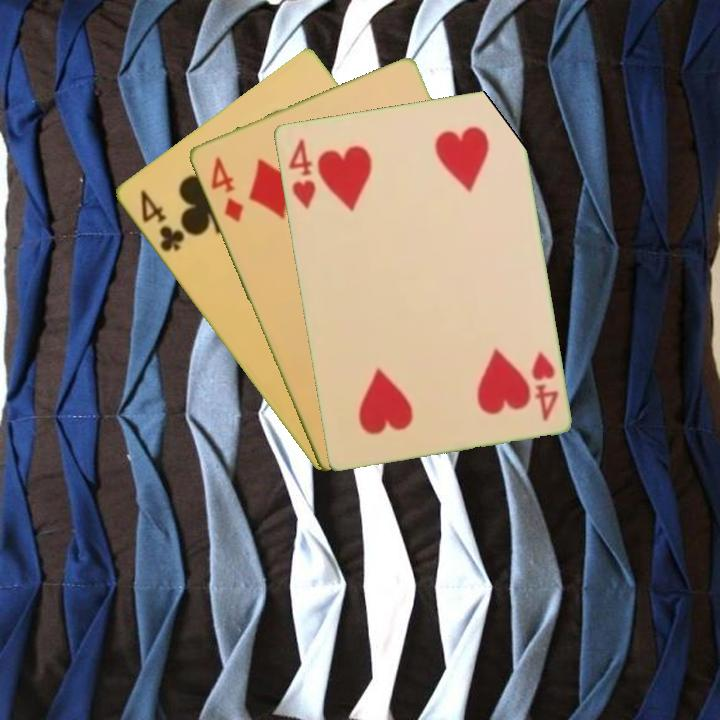4c: (136, 185, 187, 255)
4d: (206, 152, 246, 225)
4h: (284, 135, 318, 212), (527, 347, 561, 424)
